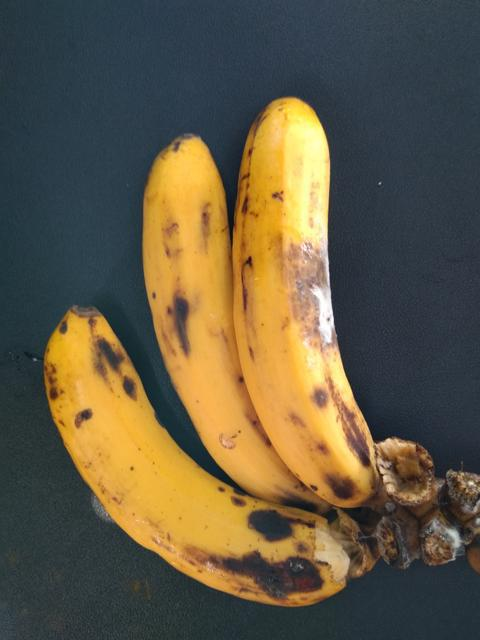overripe: (43, 309, 343, 613), (231, 74, 384, 539), (127, 119, 254, 420)
rotten: (262, 243, 375, 367)
